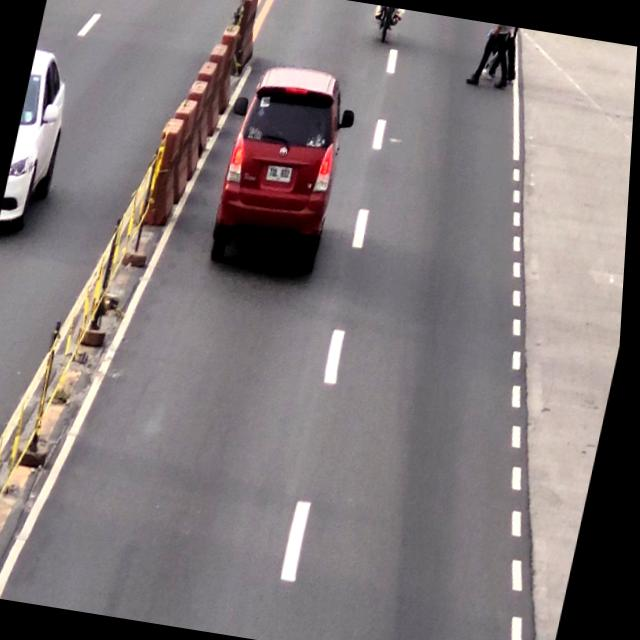Car: (214, 65, 355, 267)
License-Plate: (267, 165, 296, 188)
